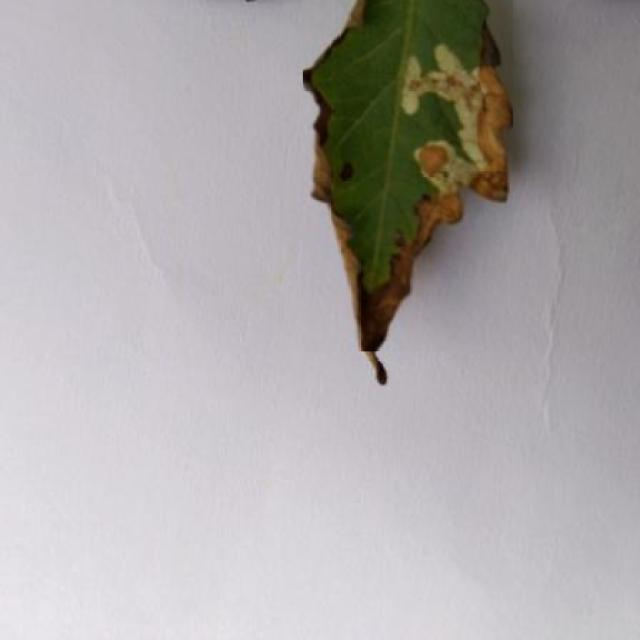Leaf Miner: (303, 0, 513, 351)
